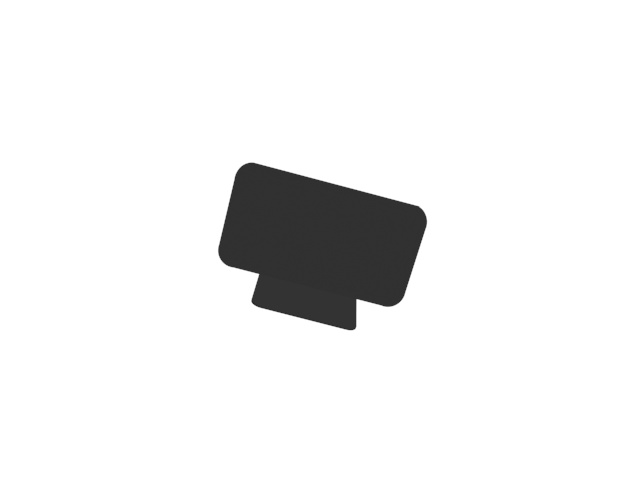monitor: (217, 161, 432, 336)
